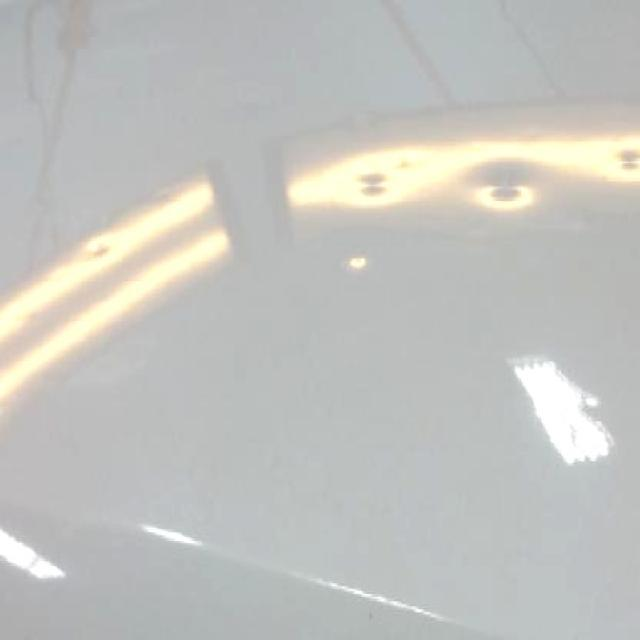dent: (475, 172, 537, 211), (607, 143, 640, 180), (357, 167, 391, 202), (86, 241, 114, 262), (345, 254, 371, 273), (392, 154, 426, 167)
